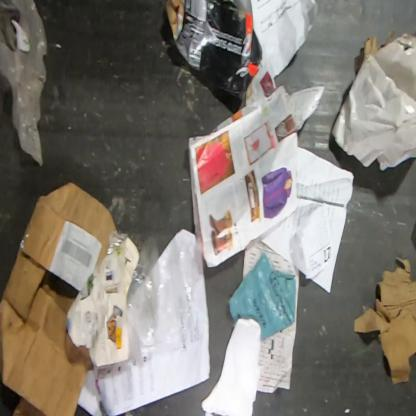cardboard: (0, 180, 118, 415), (160, 0, 264, 115)
soft_plastic: (126, 228, 204, 366), (0, 0, 49, 168), (227, 252, 297, 341), (106, 230, 128, 256)
